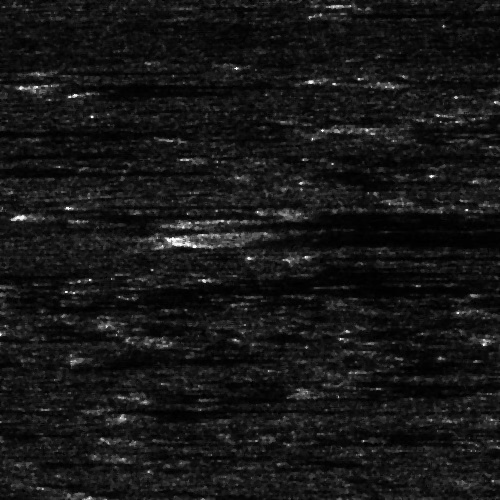object: (302, 117, 447, 134), (45, 83, 128, 102), (0, 75, 69, 94), (360, 78, 475, 87), (436, 104, 500, 113), (311, 0, 384, 7), (0, 163, 41, 172), (2, 67, 75, 72), (83, 405, 124, 412), (82, 352, 113, 361), (321, 378, 374, 383), (277, 253, 330, 258), (293, 5, 304, 22), (479, 94, 500, 101)
shadow: (27, 75, 233, 94), (0, 124, 215, 137), (87, 83, 226, 102), (299, 5, 444, 22), (375, 117, 500, 134), (97, 352, 287, 361), (0, 163, 173, 172), (104, 405, 292, 412), (304, 253, 500, 258), (38, 67, 175, 72), (418, 78, 494, 87), (348, 378, 481, 383), (348, 0, 422, 7), (0, 271, 65, 276), (478, 104, 500, 113)
